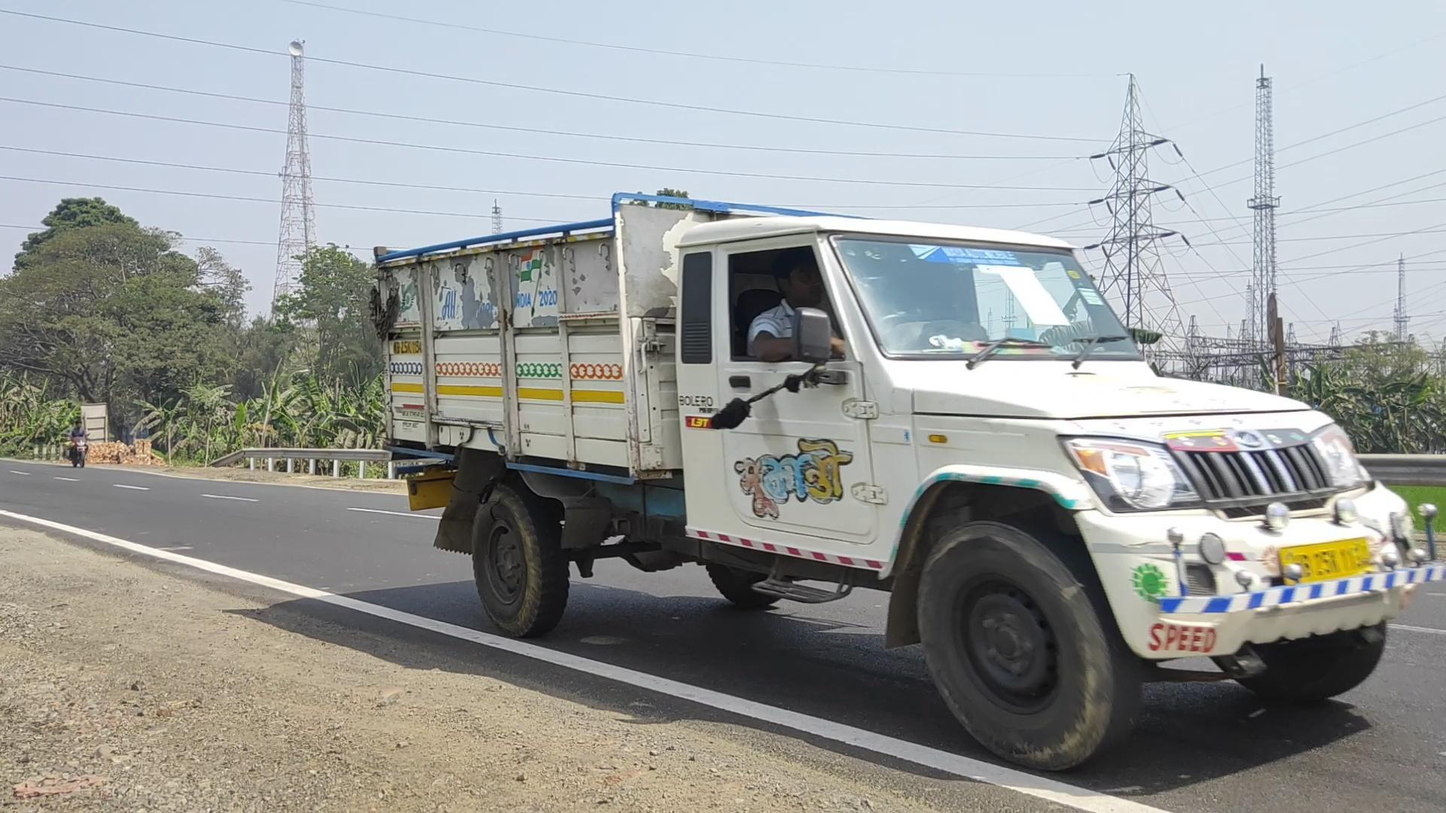bike: (66, 420, 90, 468)
car: (368, 193, 1444, 775)
